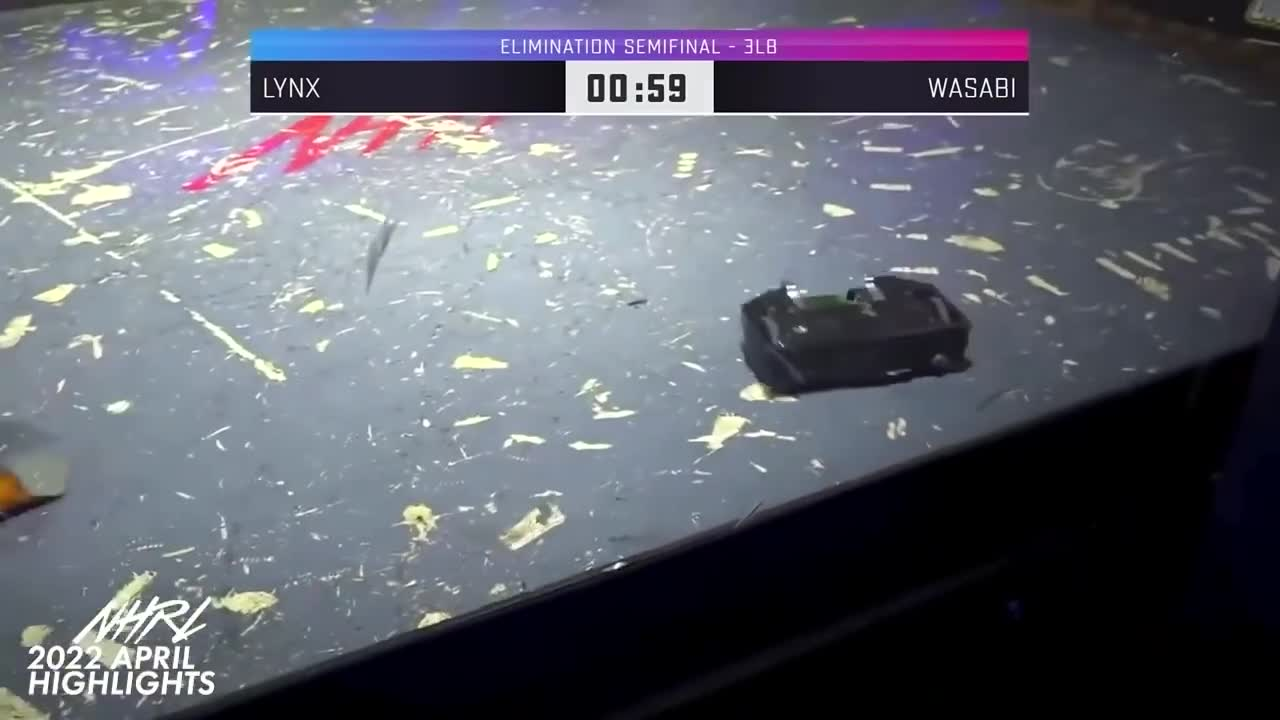combatbot: (741, 275, 975, 396), (0, 449, 67, 526)
housebot: (112, 0, 219, 53)
